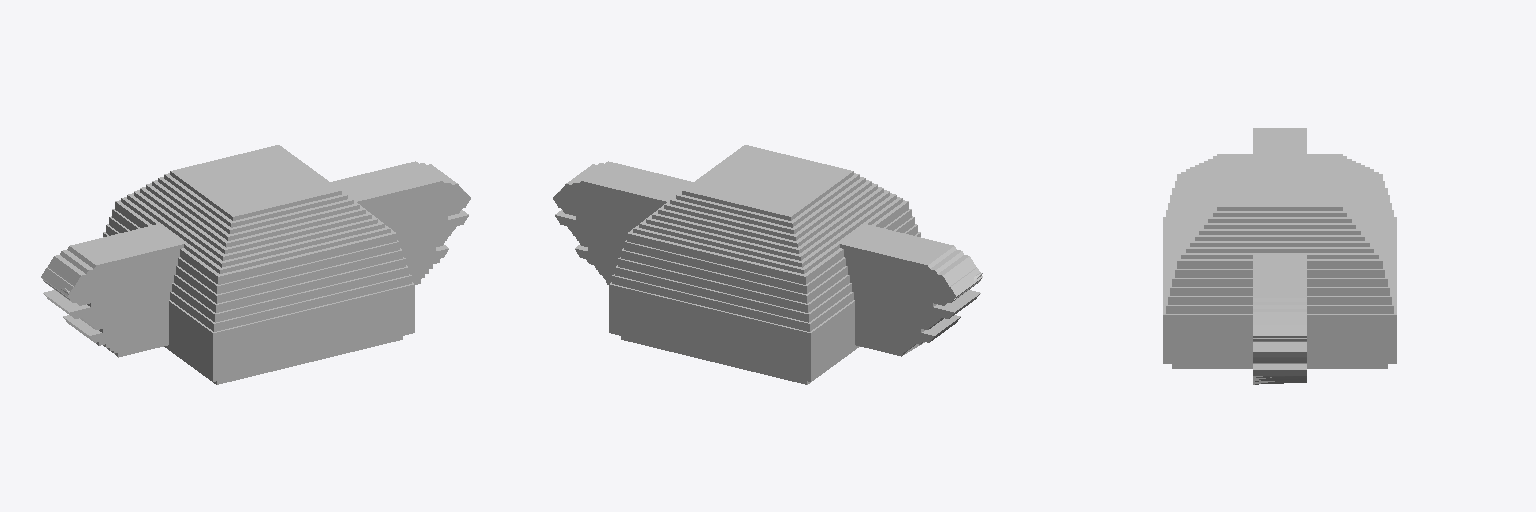
Rendered from enemy2.obj.
The picture shows the model from 3 angles: view 1: azimuth 30°, elevation 25°; view 2: azimuth 150°, elevation 25°; view 3: azimuth 270°, elevation 25°; orthographic projection.
Visible parts, largest first — view 1: obj1; view 2: obj1; view 3: obj1.
Boxes of the visible parts, <box> form: obj1: <box>41,145,470,384</box>; obj1: <box>553,145,982,384</box>; obj1: <box>1163,128,1396,384</box>.
Size of the model in its own units: 26 by 9.25 by 13.